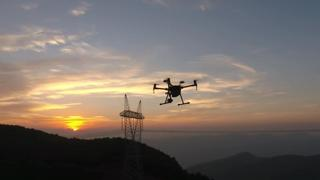UAV: (150, 78, 199, 106)
